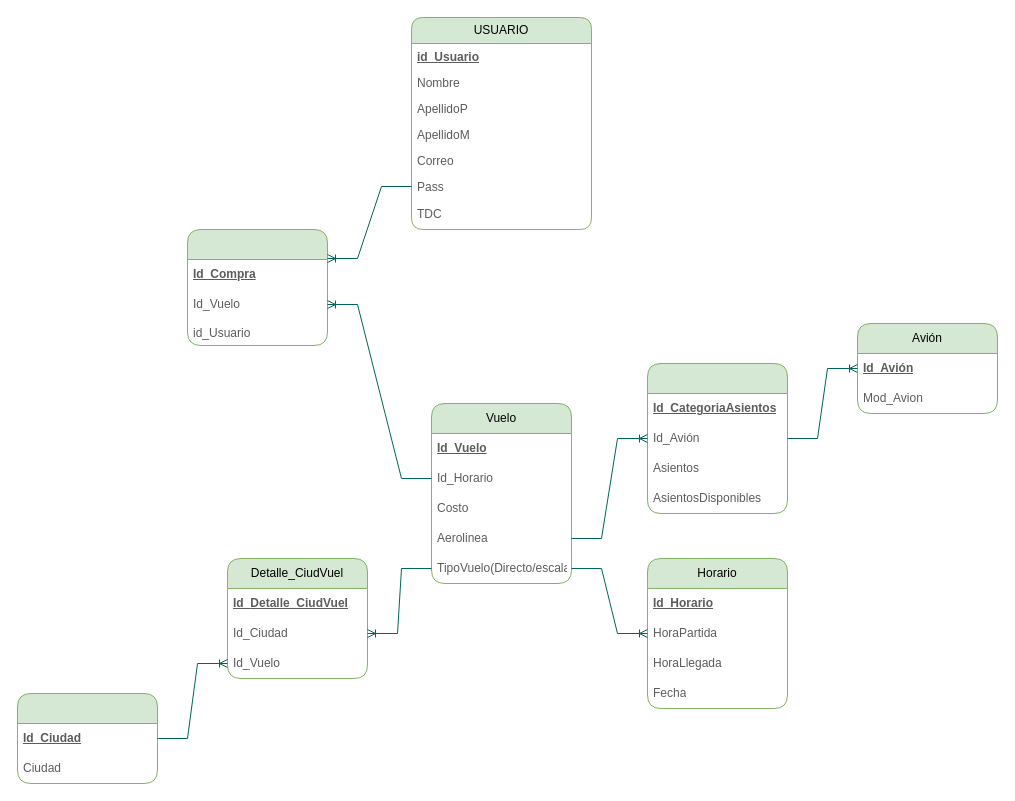
The diagram is 1015 pixels wide and 801 high, and some of its shapes have lost their labels. The box of each missing label's shape, as (x1, y1, x2, y2) in pixels:
Ciudades: (16, 692, 158, 784)
Compras: (186, 228, 328, 346)
Id_CategoríaAsientos: (646, 362, 788, 514)
